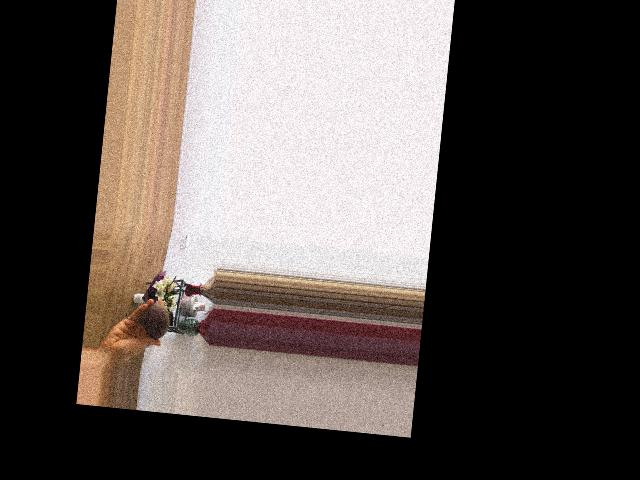beet: (123, 299, 174, 339)
